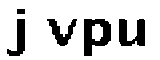j: (3, 7, 31, 60)
p: (79, 14, 113, 60)
u: (116, 16, 148, 51)
v: (44, 16, 78, 50)
